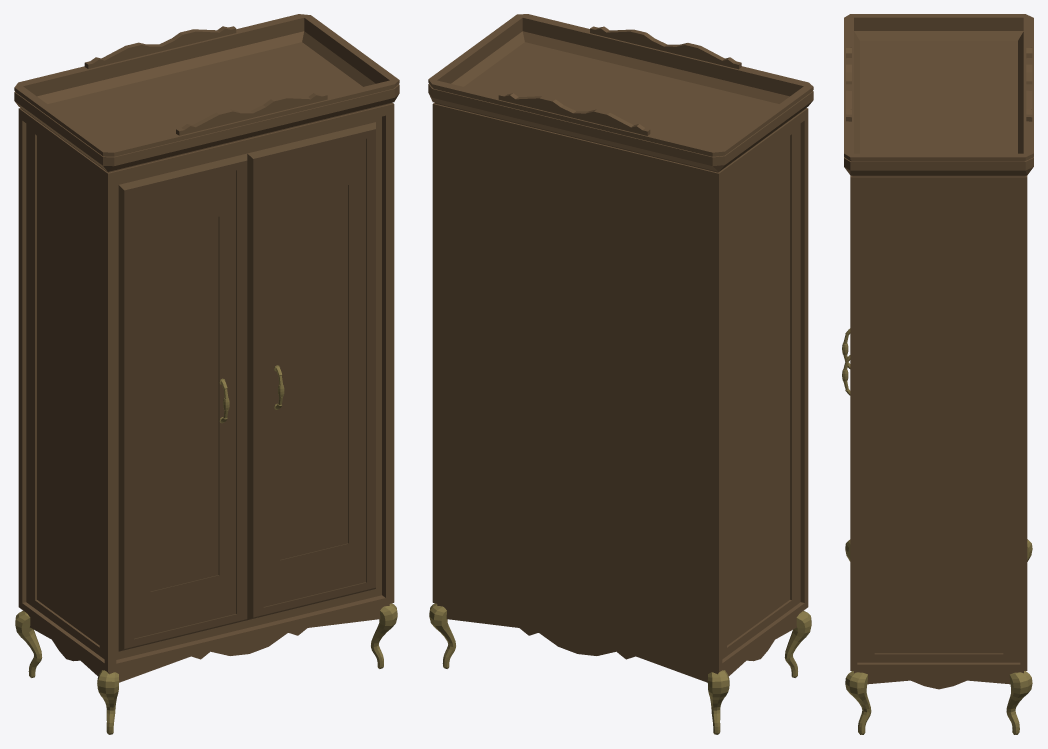
Rendered from Closet.gltf.
3 renders of one model, left to right at view 1: azimuth 30°, elevation 25°; view 2: azimuth 150°, elevation 25°; view 3: azimuth 270°, elevation 25°, orthographic.
Parts seen in each view (by area): view 1: Closet, Closet_LeftDoor, Closet_RightDoor; view 2: Closet; view 3: Closet.
Boxes of the visible parts, <box> form: Closet: <box>14,14,399,734</box>; Closet_LeftDoor: <box>118,153,247,651</box>; Closet_RightDoor: <box>247,122,375,620</box>; Closet: <box>428,14,813,734</box>; Closet: <box>844,14,1033,734</box>.
Size of the model in its own units: 1.55 by 2.98 by 0.87.
